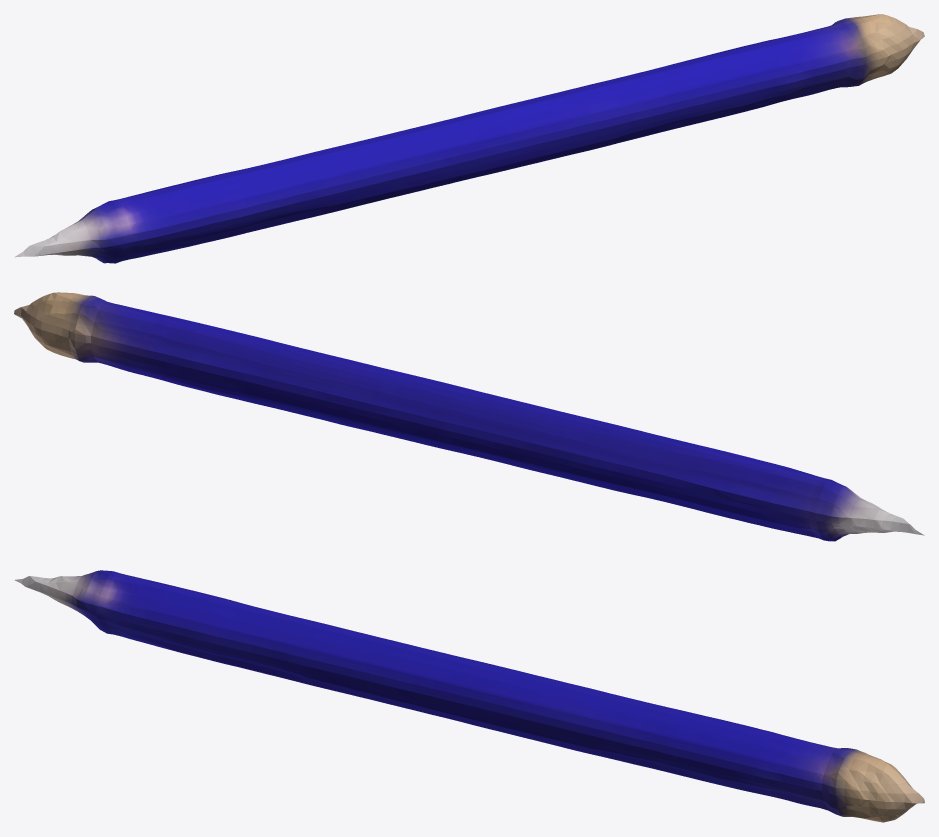
The model's file is ballpoint_pen.glb.
The picture shows the model from 3 angles, top to bottom: view 1: azimuth 30°, elevation 25°; view 2: azimuth 150°, elevation 25°; view 3: azimuth 330°, elevation 25°; orthographic projection.
Parts seen in each view (by area): view 1: tmp6fmq3esu.ply; view 2: tmp6fmq3esu.ply; view 3: tmp6fmq3esu.ply.
Part boxes in pixels (x1,y1,x2,y2): tmp6fmq3esu.ply: [14, 14, 924, 263]; tmp6fmq3esu.ply: [14, 292, 924, 541]; tmp6fmq3esu.ply: [14, 570, 924, 822].
Size of the model in its own units: 1.93 by 0.127 by 0.1053.
